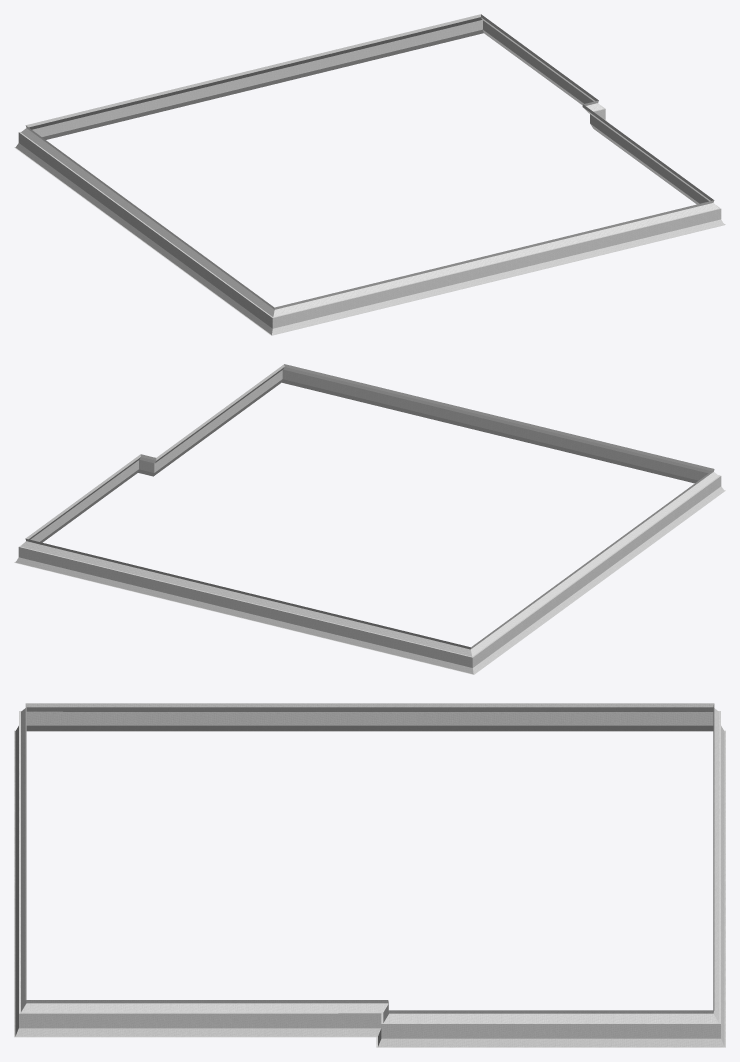
The model's file is shigaoxian04.fbx.
3 renders of one model, top to bottom at view 1: azimuth 30°, elevation 25°; view 2: azimuth 150°, elevation 25°; view 3: azimuth 270°, elevation 25°, orthographic. The views are drawn at different scales.
Visible parts, largest first — view 1: shigaoxian04; view 2: shigaoxian04; view 3: shigaoxian04.
Part boxes in pixels (left/top/right/bottom): shigaoxian04: left=14, top=14, right=725, bottom=335; shigaoxian04: left=14, top=364, right=725, bottom=674; shigaoxian04: left=14, top=703, right=725, bottom=1047.
Bounding box in the file's own units: 328 × 15.59 × 311.
